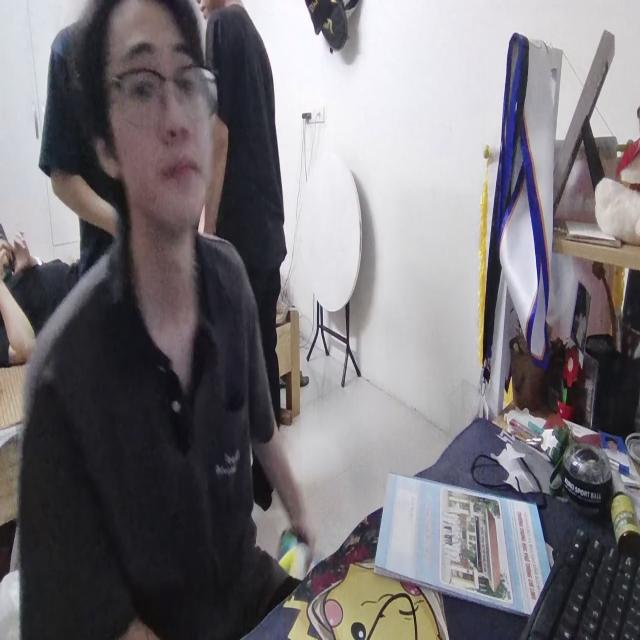book: (374, 474, 547, 620)
extra_person: (205, 0, 294, 429)
student: (14, 6, 310, 640)
